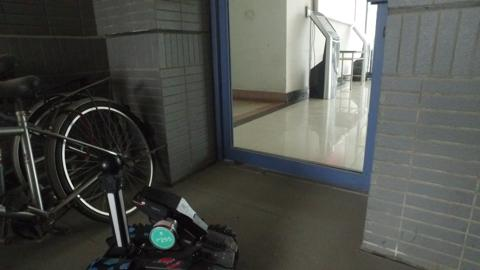chariot: (85, 156, 241, 267)
